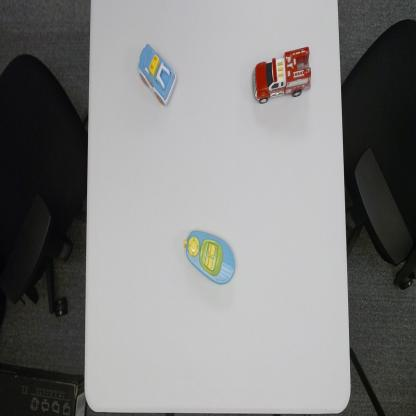Boat: (182, 228, 237, 287)
Car: (136, 42, 178, 108)
Firetruck: (251, 44, 312, 108)
